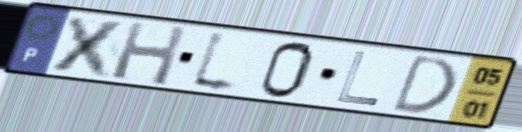0: (257, 40, 319, 100)
D: (387, 52, 460, 115)
H: (107, 19, 191, 88)
L: (185, 27, 243, 98), (333, 49, 382, 108)
X: (45, 13, 133, 81)
